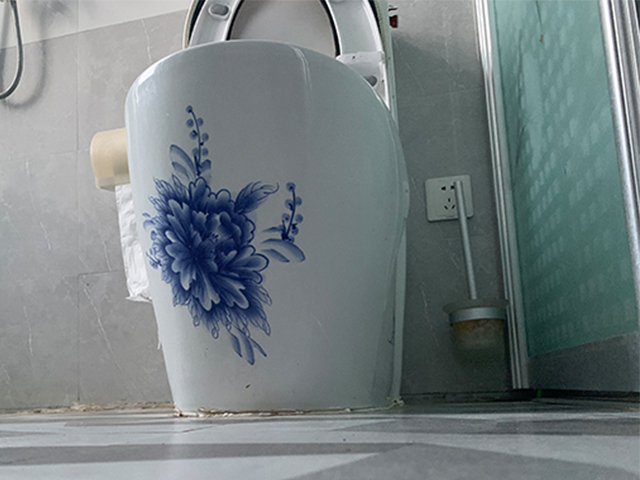closestool: (125, 1, 412, 413)
